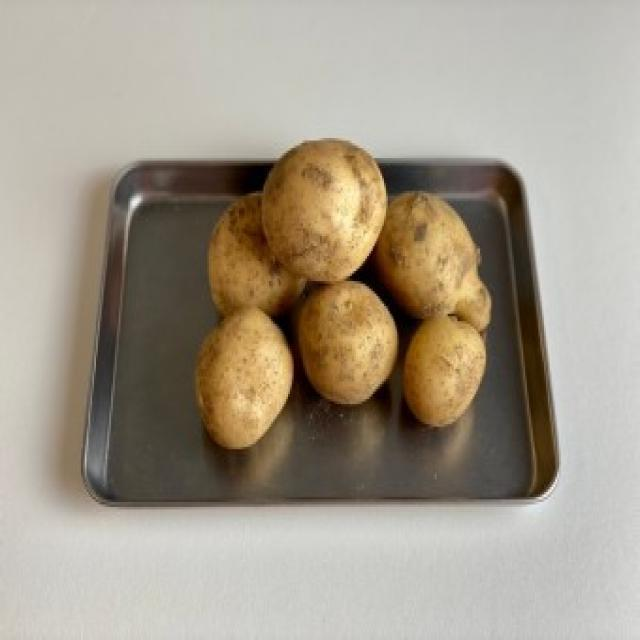potato: (261, 133, 390, 284), (371, 185, 494, 329), (202, 184, 314, 324), (192, 307, 298, 453), (290, 276, 400, 409), (402, 305, 487, 427)
